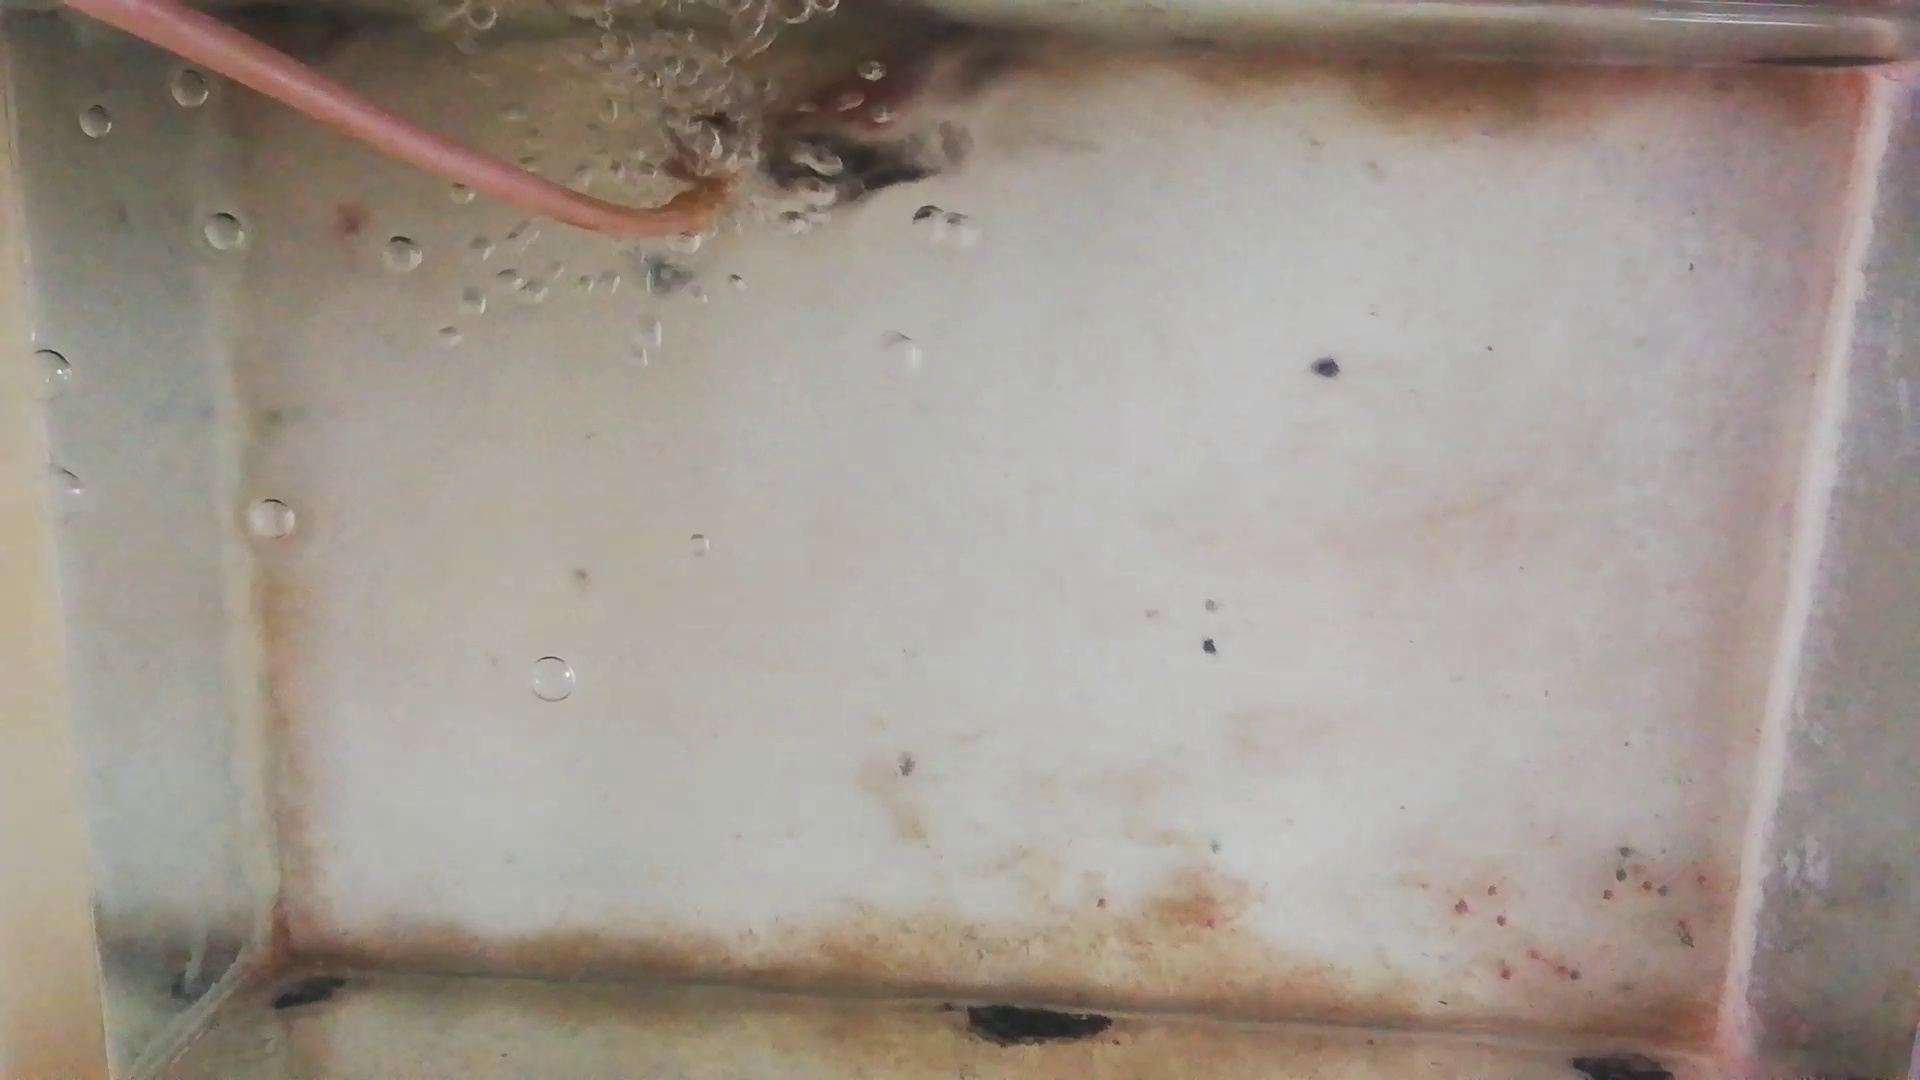fish: (750, 50, 934, 133), (750, 136, 939, 206)
